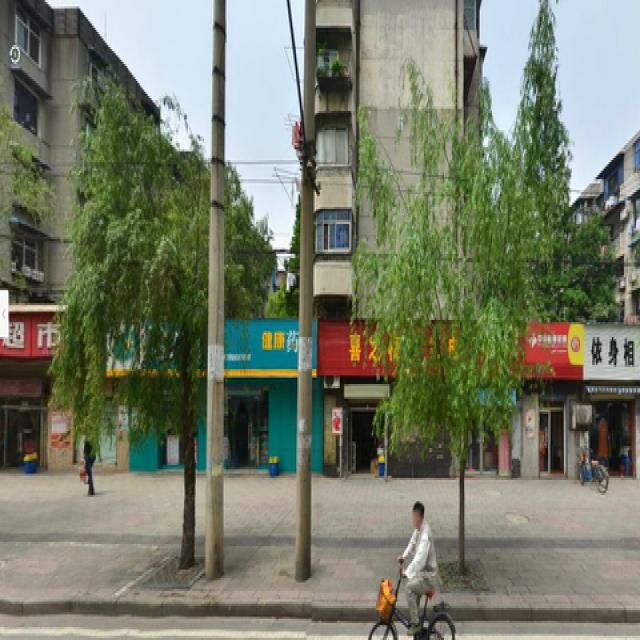plat: (358, 94, 542, 587)
